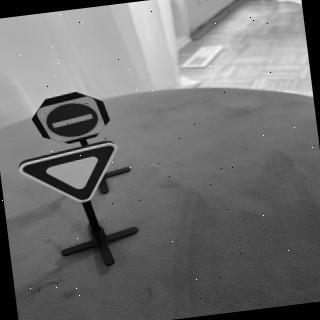sign_noentry: (36, 94, 110, 148)
sign_yield: (17, 141, 126, 212)
